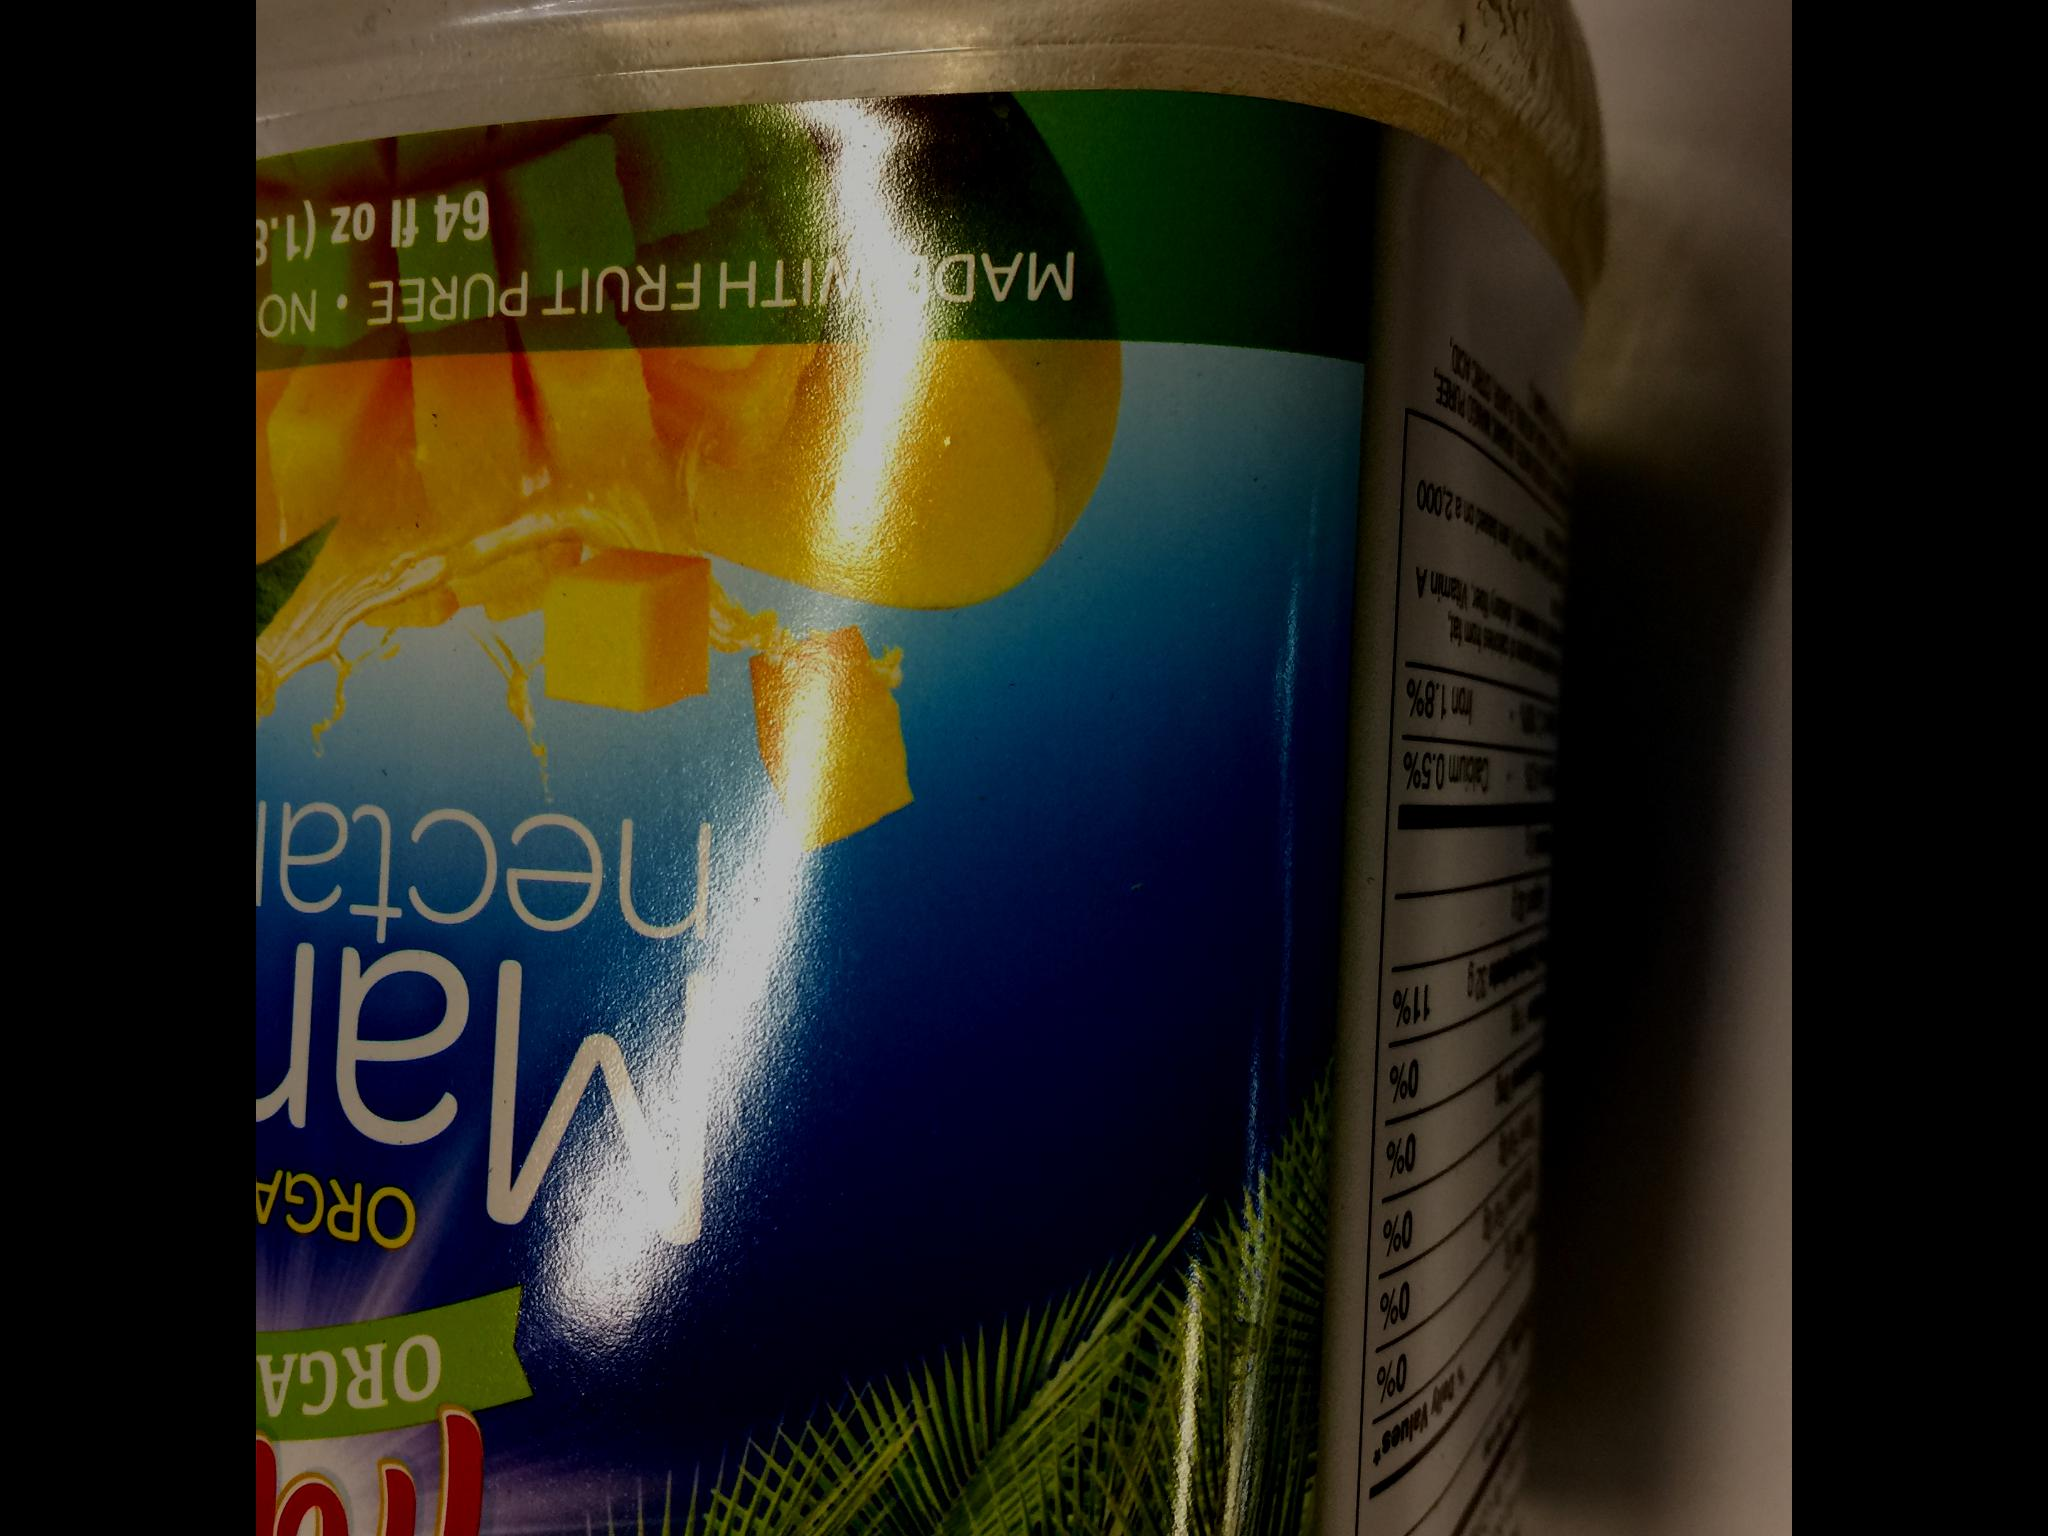Plastic: (256, 0, 1616, 1534)
